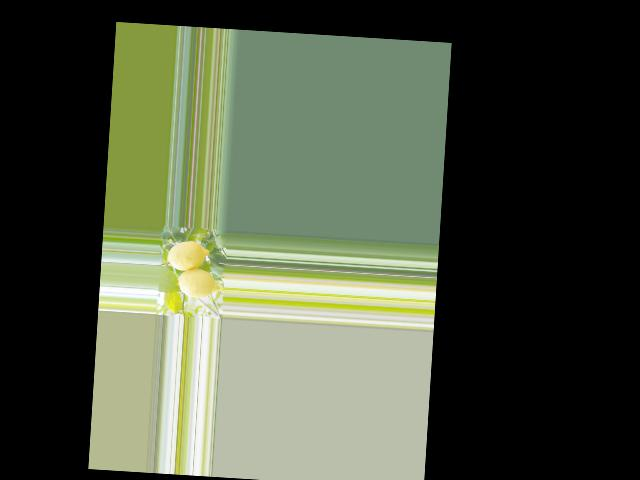lemon: (174, 266, 219, 301)
